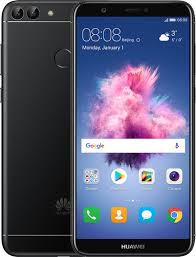huawei: (1, 1, 196, 256), (67, 1, 196, 257), (1, 1, 74, 256)
